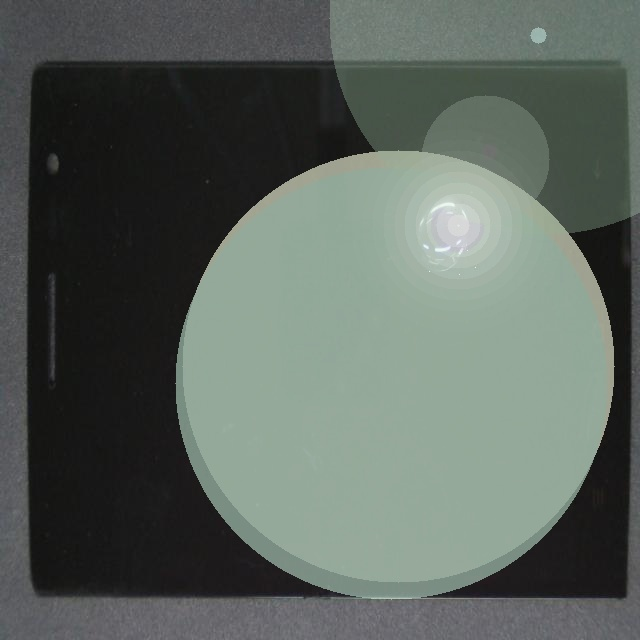oil: (230, 90, 640, 312)
